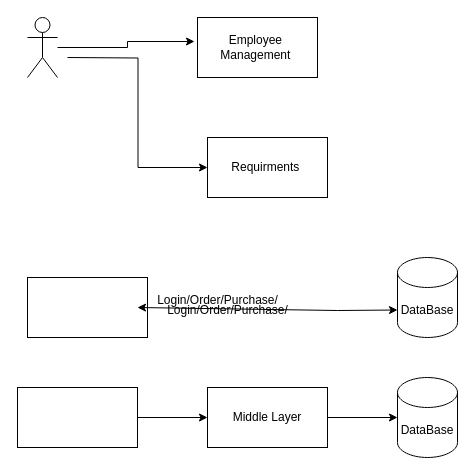
This 475x475 diagram has some shape labels left out. The shapes that lost their labels are listed below. From the top down, each one's box as (x1, y1, x2, y2) in pixels, then its label:
(26, 16, 58, 78): Actor
(26, 276, 148, 338): Amazon
(16, 386, 138, 448): UI
